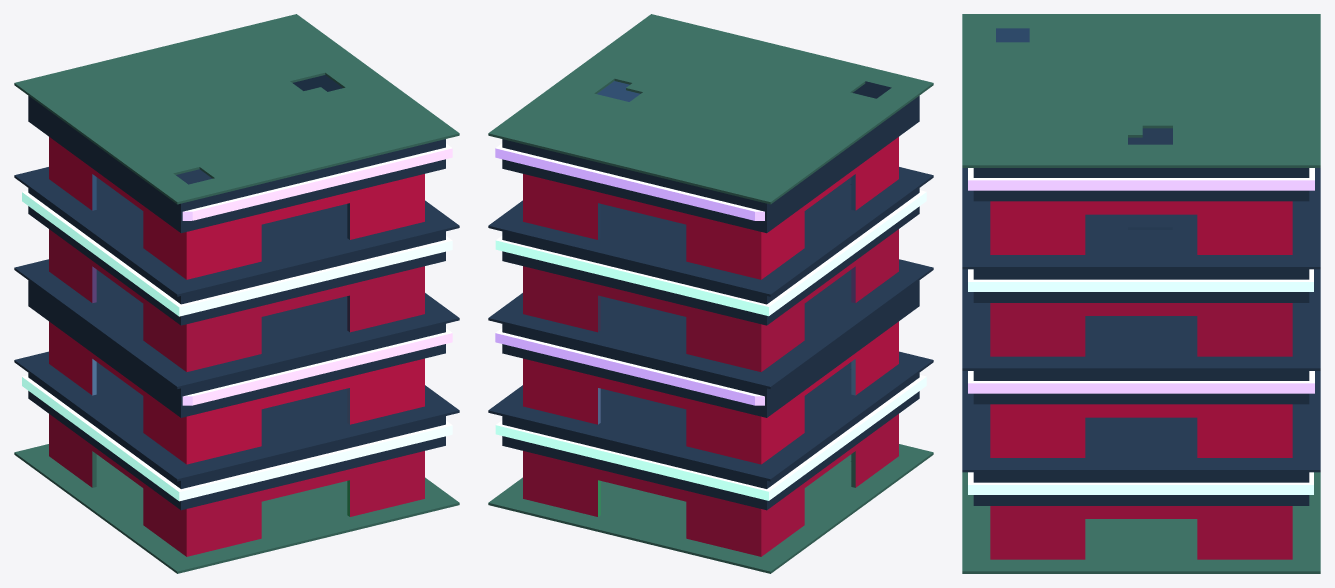
File: StudzDragon_FinalColor_2.gltf
3 views of the same model, side by side, from view 1: azimuth 30°, elevation 25°; view 2: azimuth 150°, elevation 25°; view 3: azimuth 270°, elevation 25° (orthographic). The views are drawn at different scales.
Visible parts, largest first — view 1: Neon Outline.010; view 2: Neon Outline.010; view 3: Neon Outline.010.
Part boxes in pixels (x1=…): Neon Outline.010: x1=14, y1=14, x2=459, y2=573; Neon Outline.010: x1=488, y1=14, x2=933, y2=573; Neon Outline.010: x1=962, y1=14, x2=1320, y2=573.
Size of what is drawn, in the model's own units: 32 by 40.25 by 32.
Materials: 3 (1 with a texture image).
